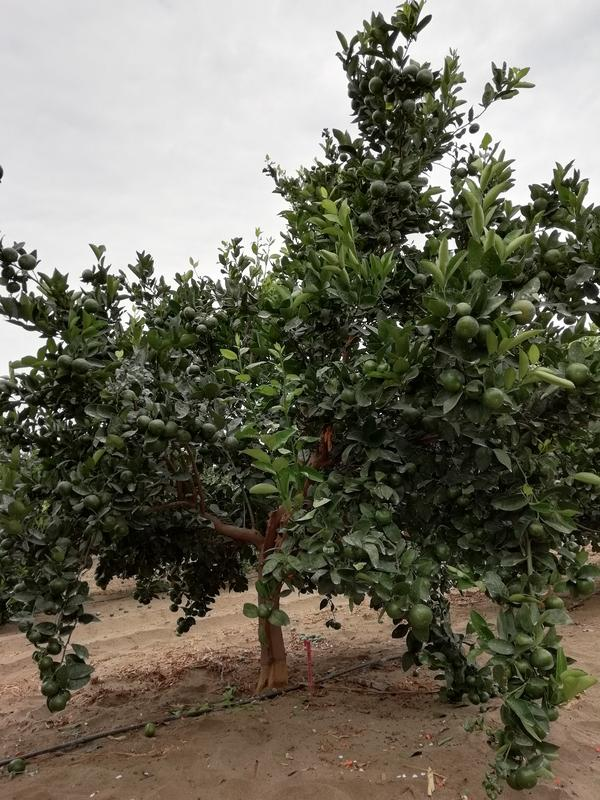mandarina verde: (406, 602, 434, 629), (565, 359, 591, 387), (513, 763, 539, 791), (530, 644, 555, 672), (438, 368, 467, 392), (511, 299, 536, 325), (455, 315, 483, 338), (386, 597, 409, 621), (482, 387, 505, 410), (573, 577, 597, 595), (543, 593, 567, 611), (41, 678, 61, 698), (47, 692, 66, 712), (70, 357, 91, 375), (525, 522, 547, 539), (19, 253, 38, 272), (543, 248, 561, 268), (435, 540, 452, 561), (394, 182, 414, 199), (49, 578, 70, 594), (454, 300, 472, 318), (375, 506, 393, 524), (255, 602, 273, 620), (148, 418, 166, 435), (370, 108, 387, 126), (1, 246, 17, 265), (136, 414, 153, 431), (417, 69, 434, 86), (368, 75, 384, 93), (371, 180, 387, 197), (83, 494, 100, 510), (57, 354, 73, 371), (340, 389, 357, 405), (357, 212, 375, 227), (222, 435, 240, 450), (412, 272, 428, 288), (201, 423, 217, 438), (165, 421, 180, 437), (58, 481, 74, 496), (458, 494, 474, 509), (37, 656, 54, 670), (205, 314, 219, 330), (144, 721, 158, 737), (83, 300, 98, 314), (5, 281, 21, 294), (468, 690, 481, 705), (48, 639, 61, 654), (378, 232, 390, 247), (184, 306, 196, 320), (188, 364, 202, 376)
